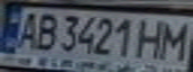1: (112, 16, 139, 58)
2: (93, 15, 118, 56)
3: (54, 11, 81, 53)
4: (75, 13, 96, 55)
A: (9, 9, 45, 52)
B: (30, 10, 60, 52)
H: (133, 16, 172, 60)
M: (154, 18, 193, 61)
